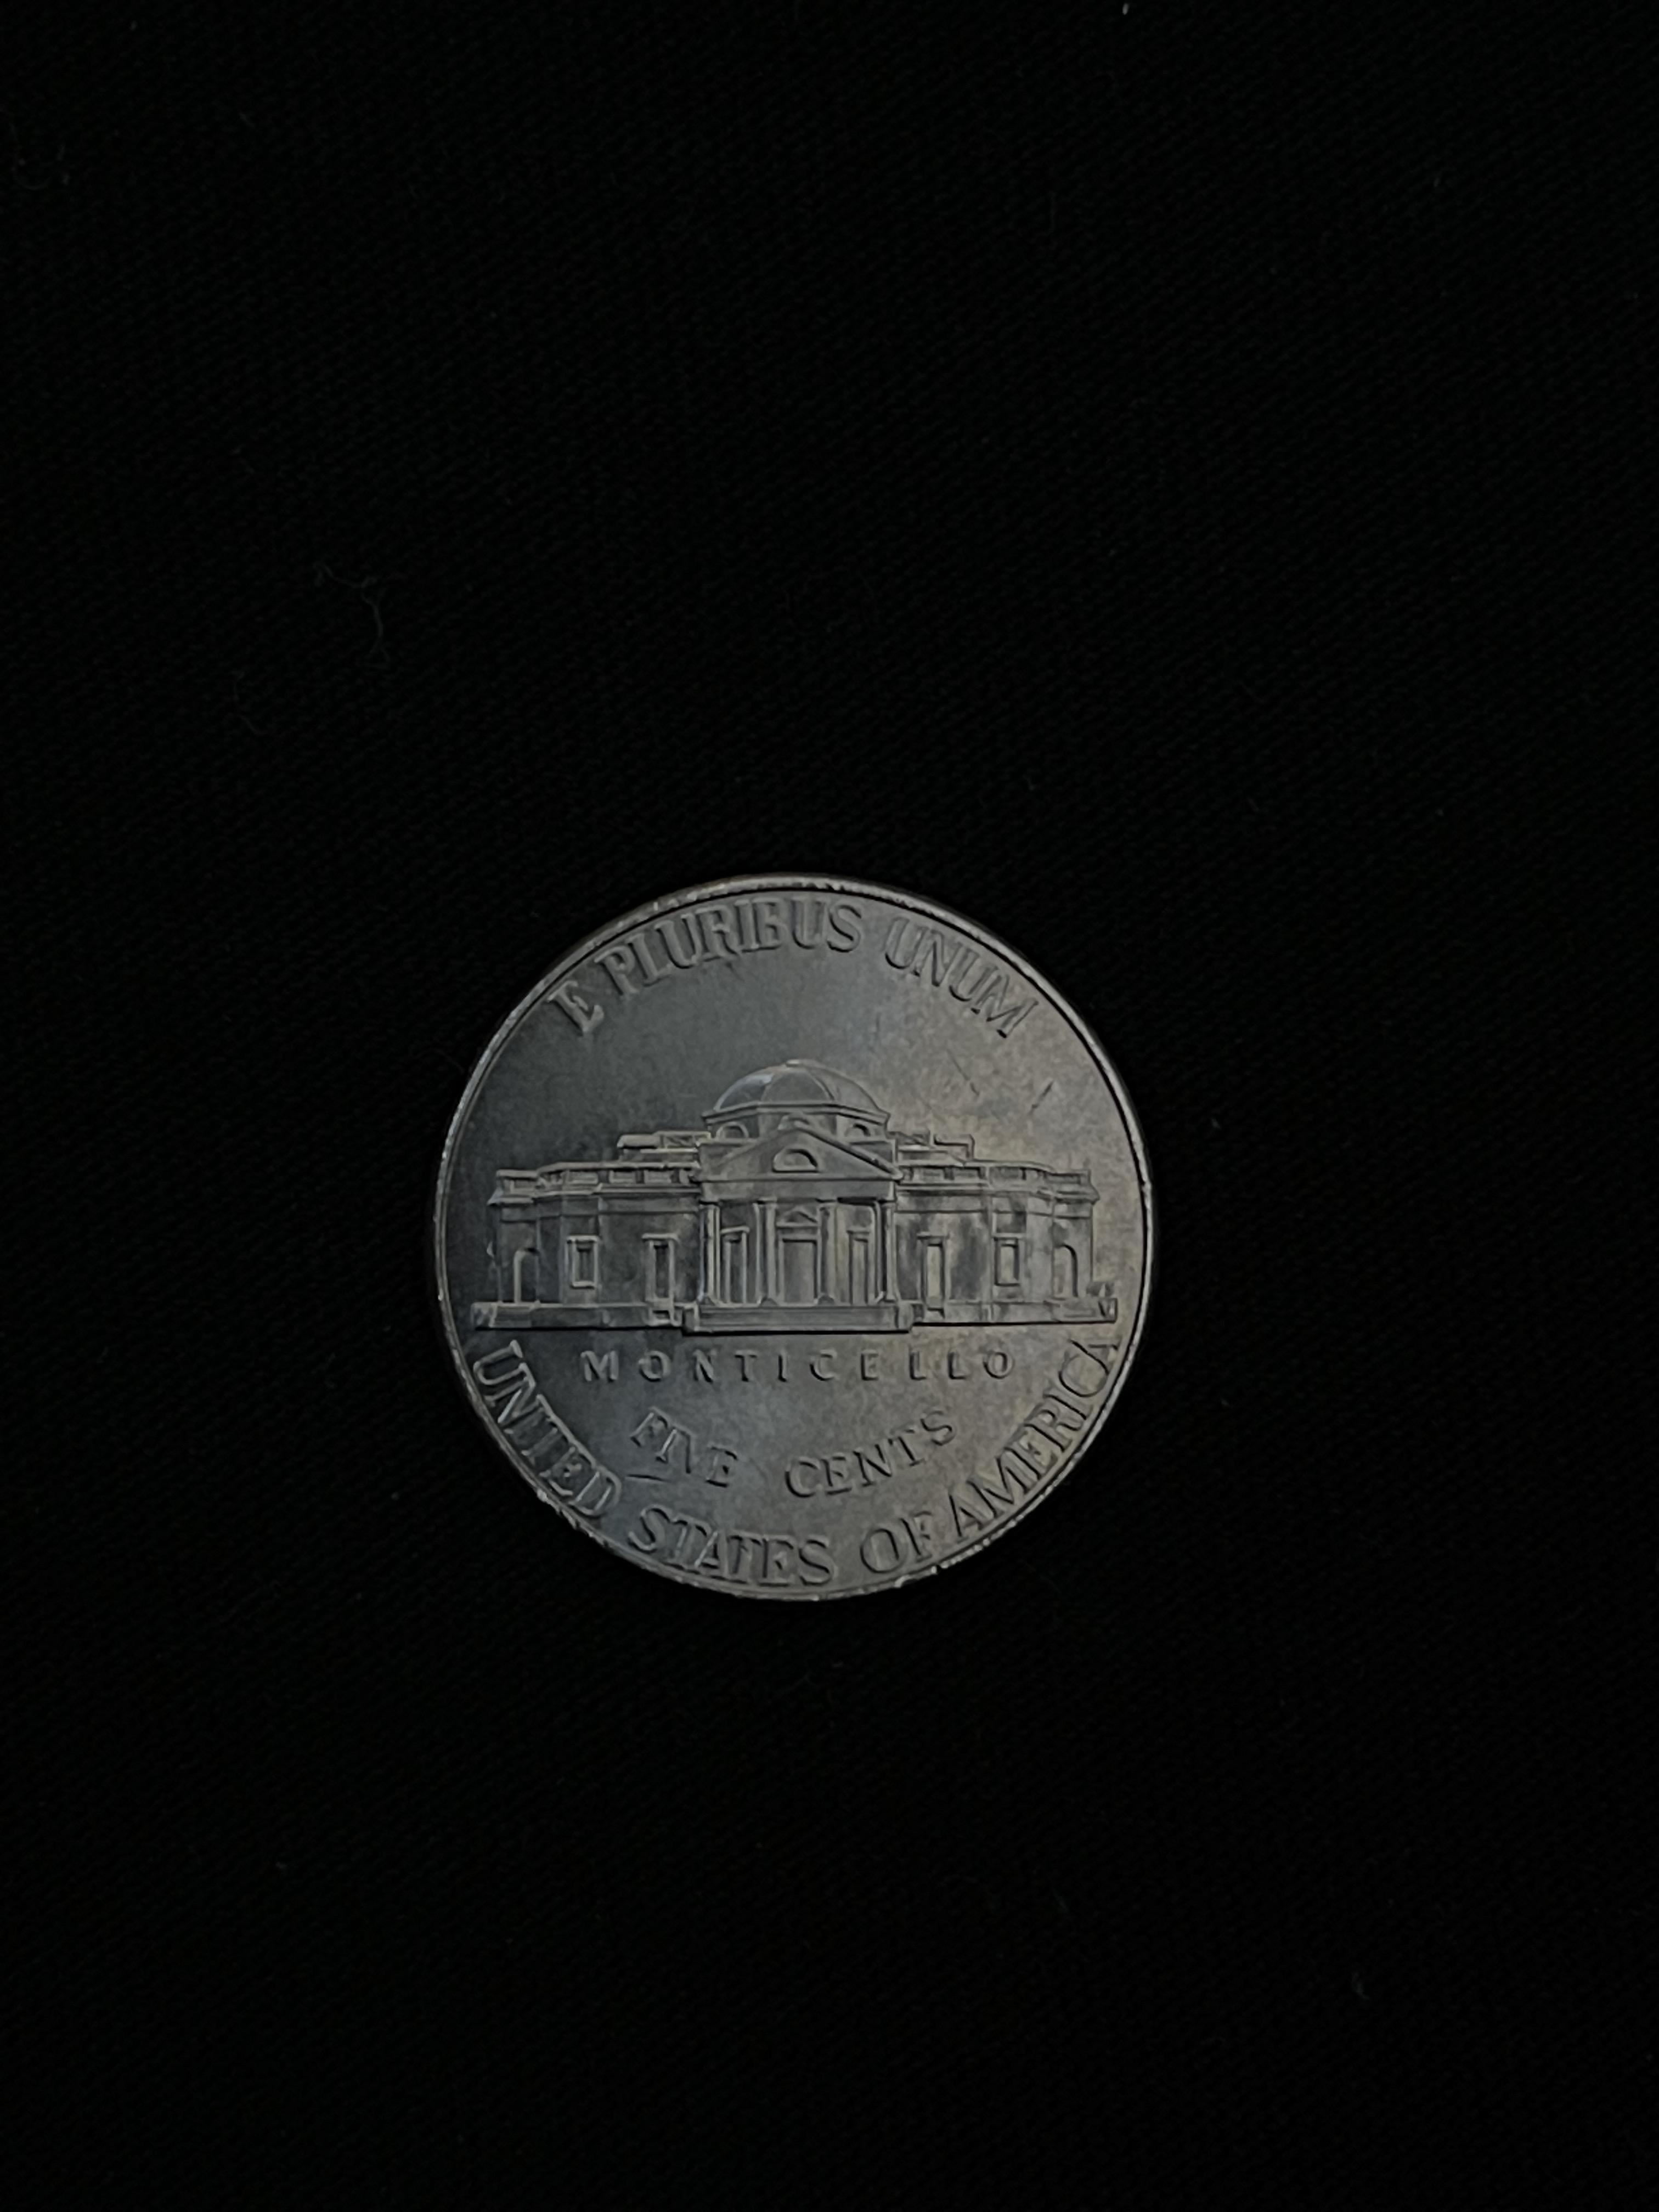Nickel: (429, 871, 1162, 1604)
